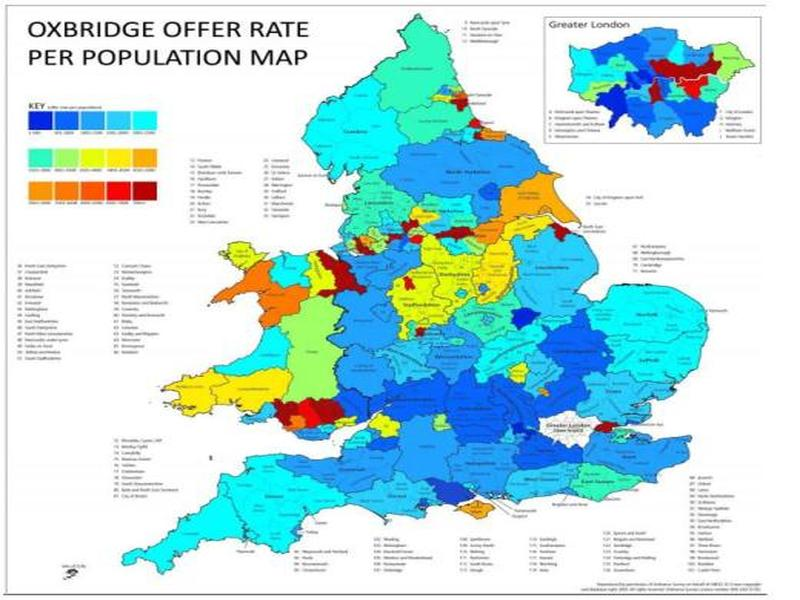legend: (24, 98, 161, 209)
